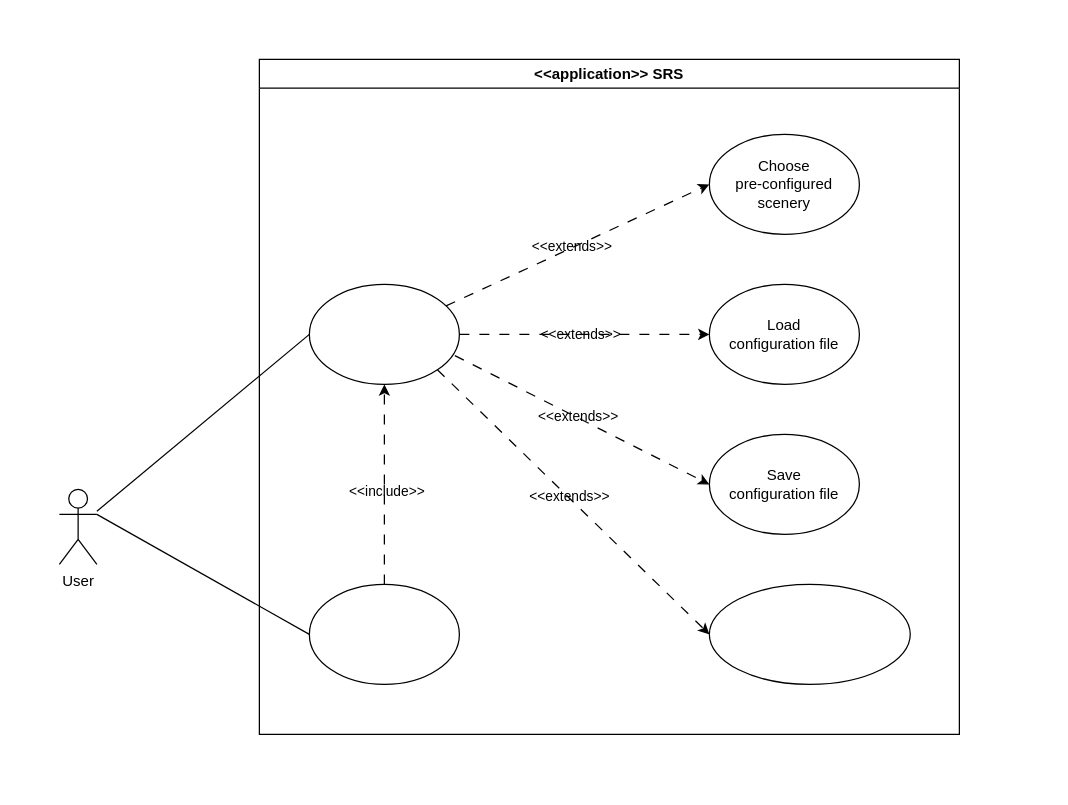
The diagram is 1068 pixels wide and 805 high, and some of its shapes have lost their labels. Here are the shapes that lost their labels. From the top down, the box of each, then its label:
(308, 283, 459, 384): Manage configuration
(308, 583, 459, 684): Start simulation
(708, 583, 910, 684): Change configuration parameters (environment, obstacles, robots)
